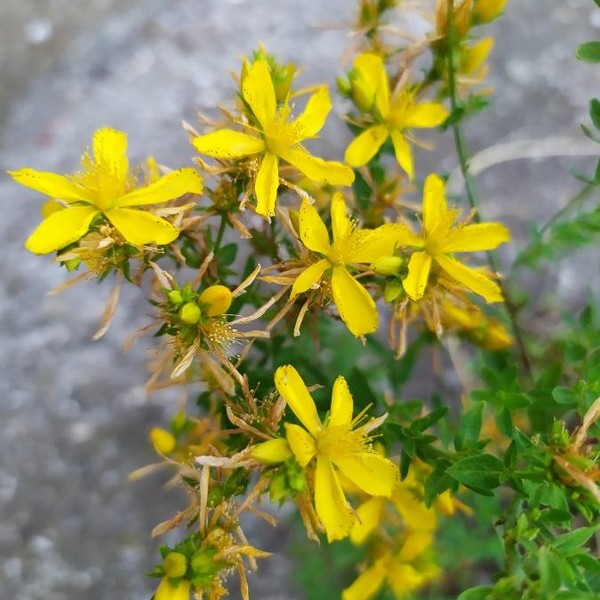obstacle: (67, 55, 554, 570)
